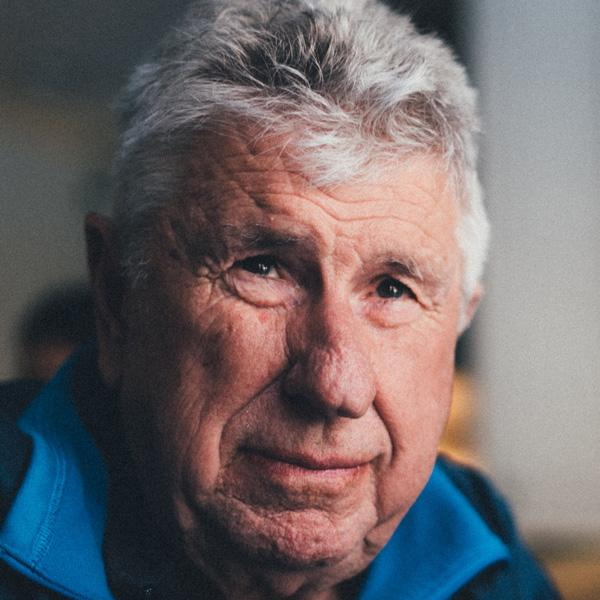Eyes: (222, 242, 301, 292), (355, 269, 427, 312)
